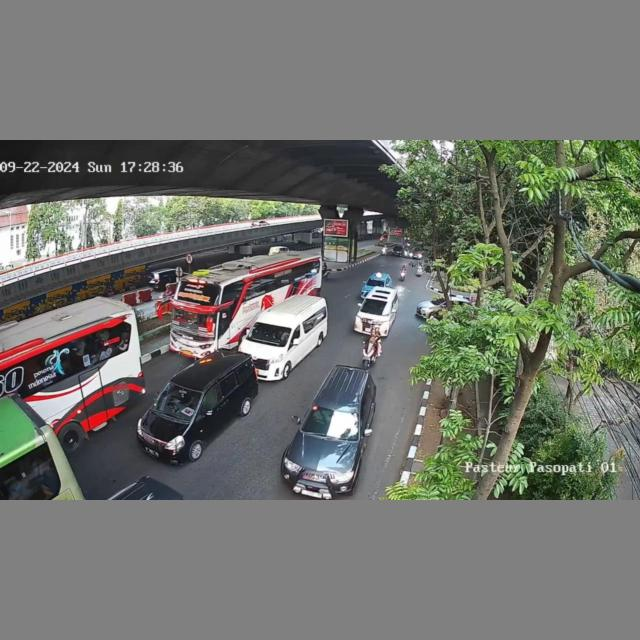windshield: (302, 405, 360, 437), (156, 382, 203, 421), (244, 322, 291, 346), (359, 300, 388, 315)
